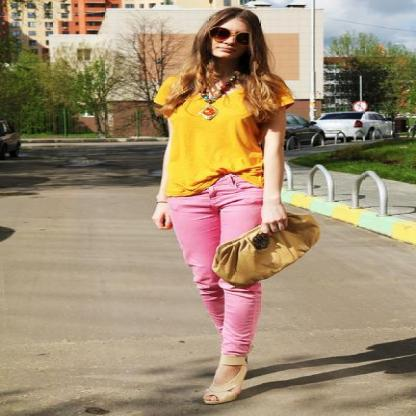bag: (204, 213, 318, 282)
pants: (172, 175, 274, 357)
shirt: (166, 87, 294, 197)
shoe: (204, 358, 261, 402)
sunglass: (212, 27, 238, 49)
